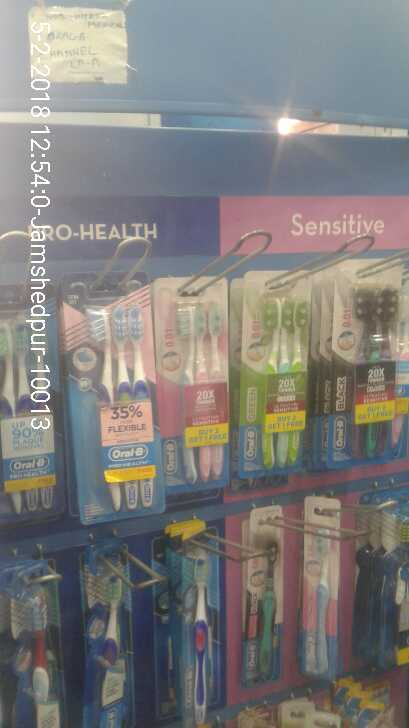oralb: (61, 297, 152, 515), (229, 283, 296, 470), (324, 278, 389, 466), (155, 290, 218, 481), (3, 309, 54, 513), (166, 543, 220, 728), (1, 570, 55, 728), (87, 557, 130, 727), (237, 519, 281, 677), (298, 502, 333, 667)
